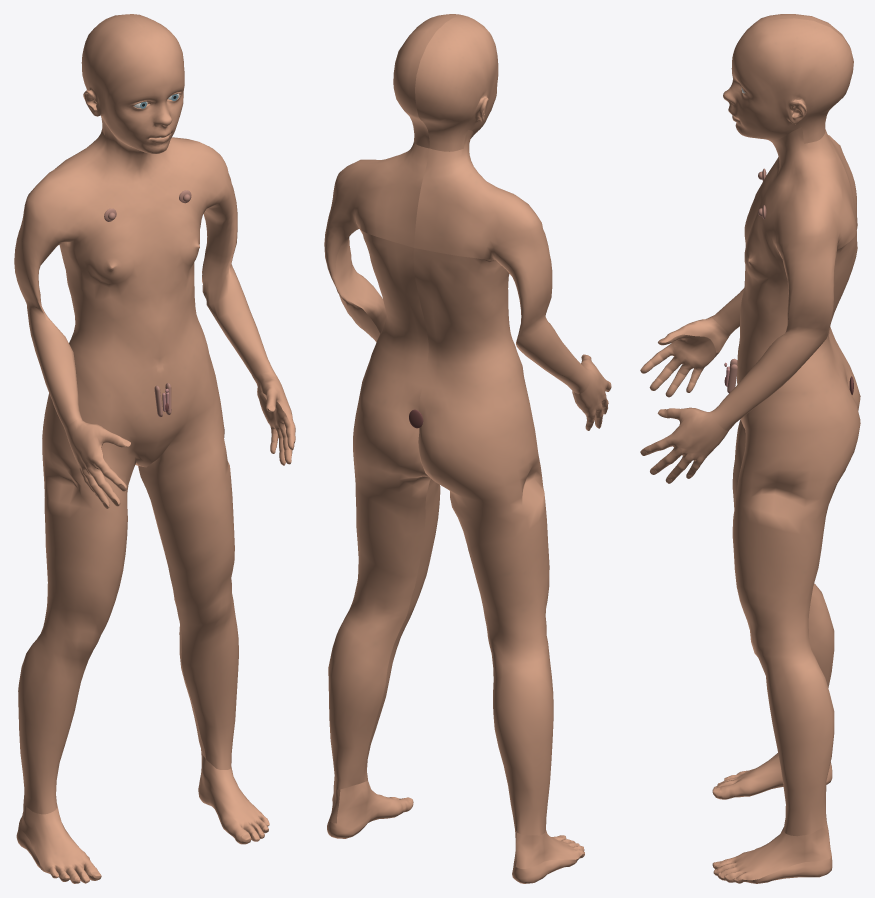
Rendered from body-kind-weiblich-real-v3.glb.
3 views of the same model, side by side, from view 1: azimuth 30°, elevation 25°; view 2: azimuth 150°, elevation 25°; view 3: azimuth 270°, elevation 25° (orthographic). The views are drawn at different scales.
Visible parts, largest first — view 1: real-human-body; view 2: real-human-body; view 3: real-human-body.
Part boxes in pixels (left/top/right/bottom): real-human-body: left=14, top=14, right=295, bottom=883; real-human-body: left=324, top=14, right=611, bottom=883; real-human-body: left=640, top=14, right=860, bottom=883.
Size of the model in its own units: 0.4009 by 1.42 by 0.3468.
8 materials, 1 textured.
